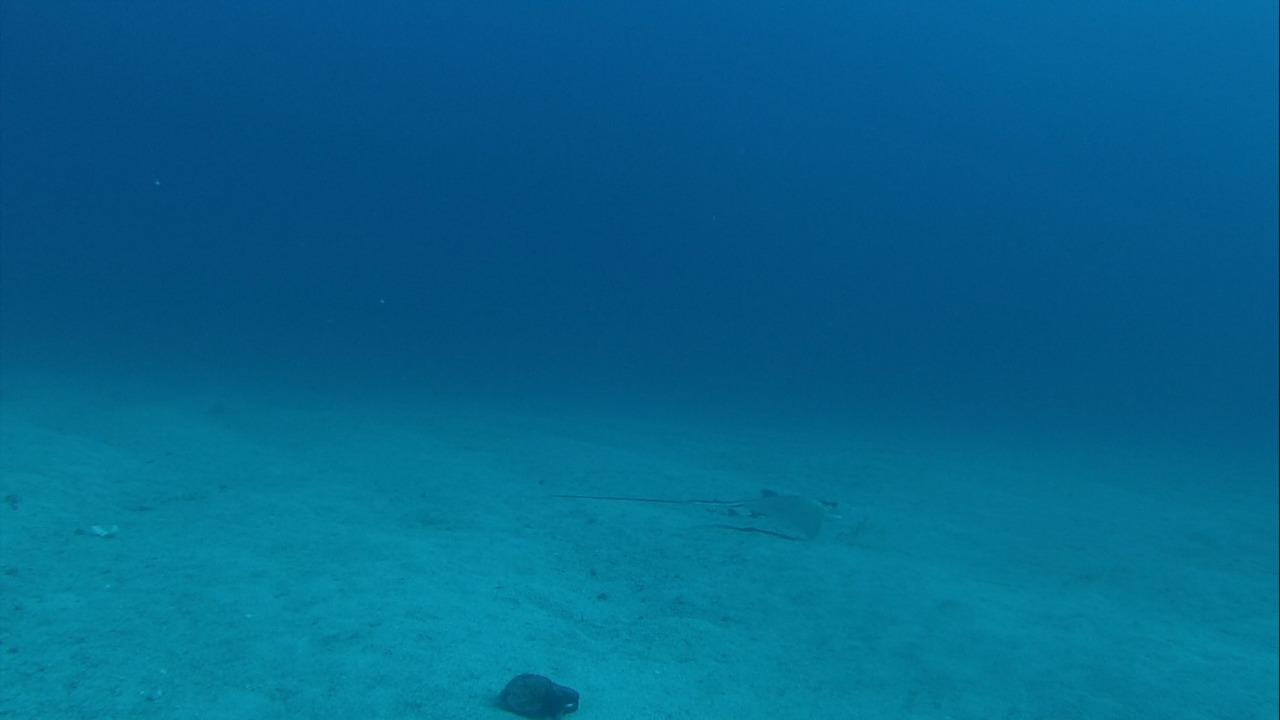myliobatis: (533, 475, 845, 548)
